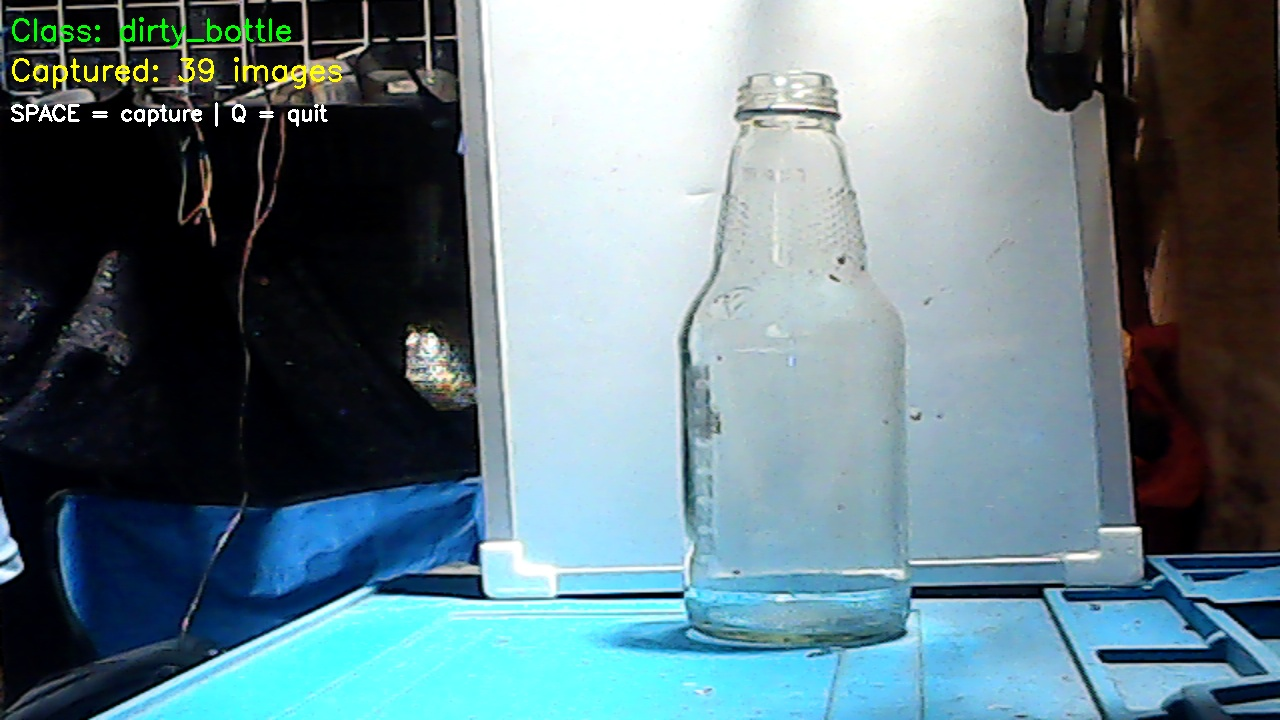dirty_bottle: (682, 73, 915, 657)
